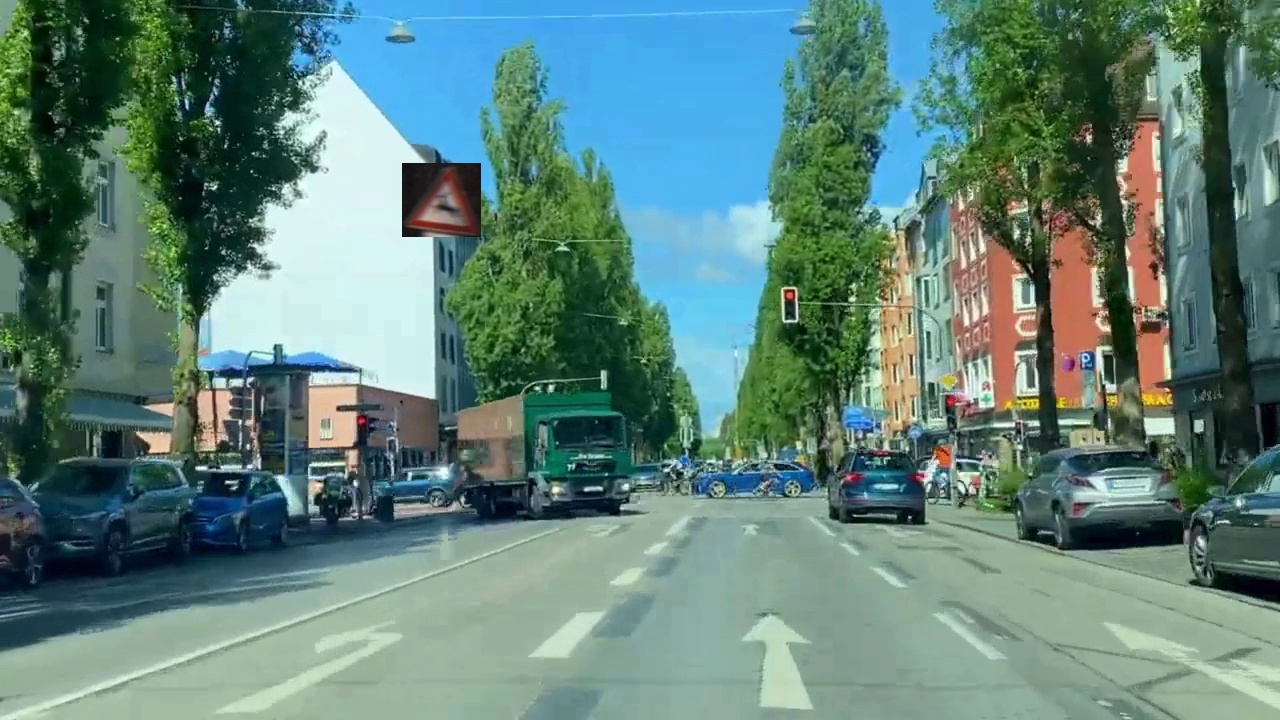Wild animals: (402, 163, 481, 237)
